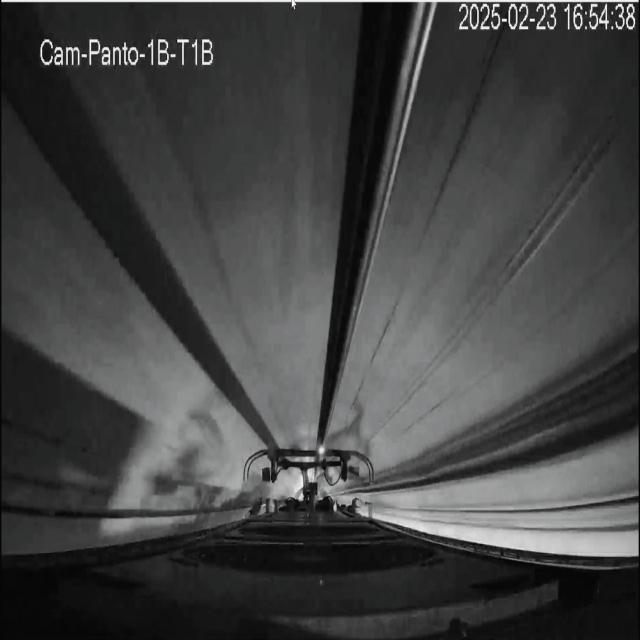Camera Stamp: (35, 27, 219, 71)
Date Stamp: (458, 3, 637, 33)
Sparks: (310, 439, 331, 473), (314, 437, 327, 462)
